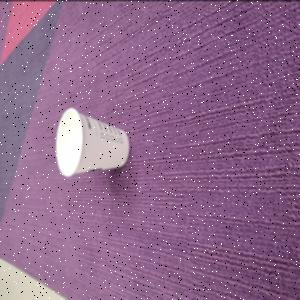Cup: (57, 107, 132, 178)
